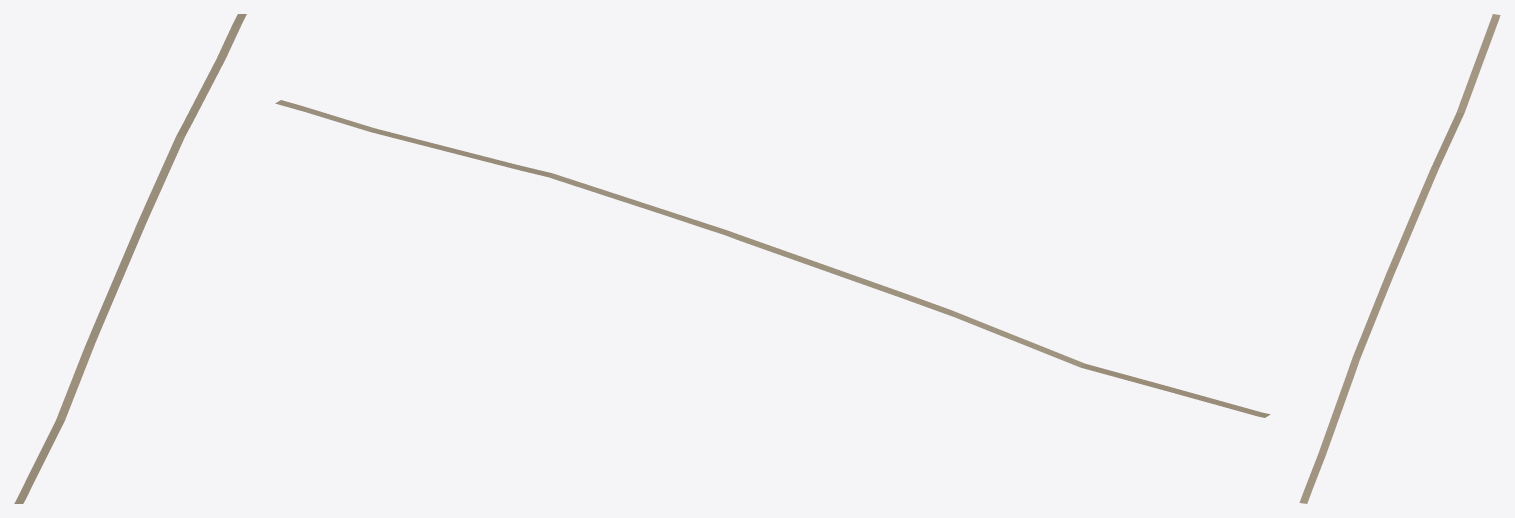
File: farm_12_-1_track.glb
The picture shows the model from 3 angles, left to right: view 1: azimuth 90°, elevation 25°; view 2: azimuth 150°, elevation 25°; view 3: azimuth 270°, elevation 25°; orthographic projection. The views are drawn at different scales.
Parts seen in each view (by area): view 1: geometry_0; view 2: geometry_0; view 3: geometry_0.
Boxes of the visible parts, bbox=[...] form: geometry_0: bbox=[14, 14, 246, 503]; geometry_0: bbox=[275, 100, 1270, 417]; geometry_0: bbox=[1299, 14, 1500, 503].
Size of the model in its own units: 446 by 15.1 by 83.08.
